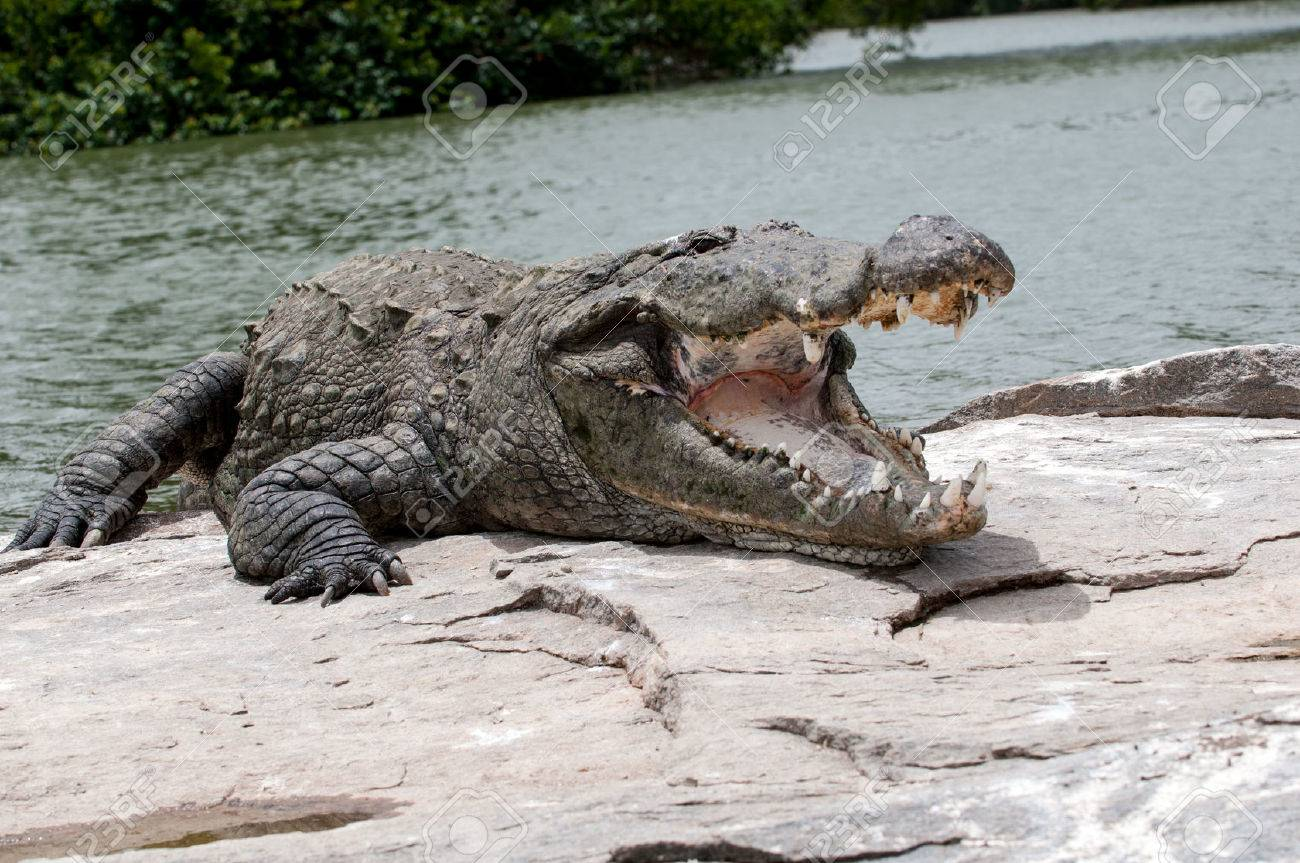Crocodile: (1, 212, 1029, 605)
